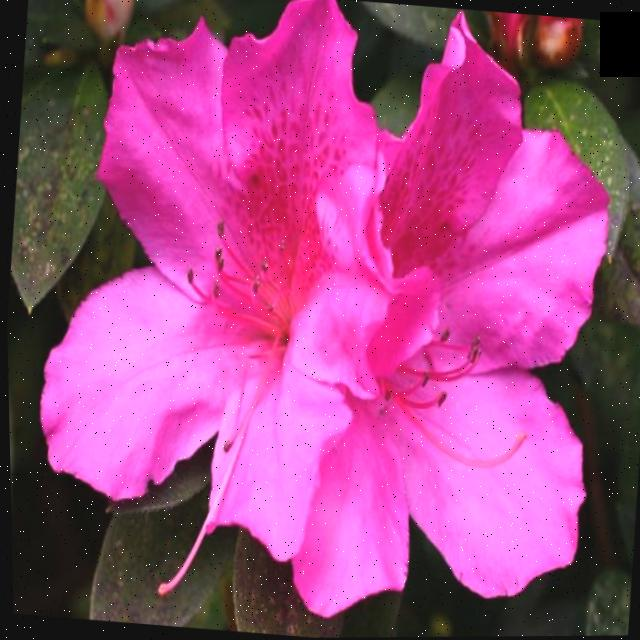azalea: (41, 0, 604, 631)
